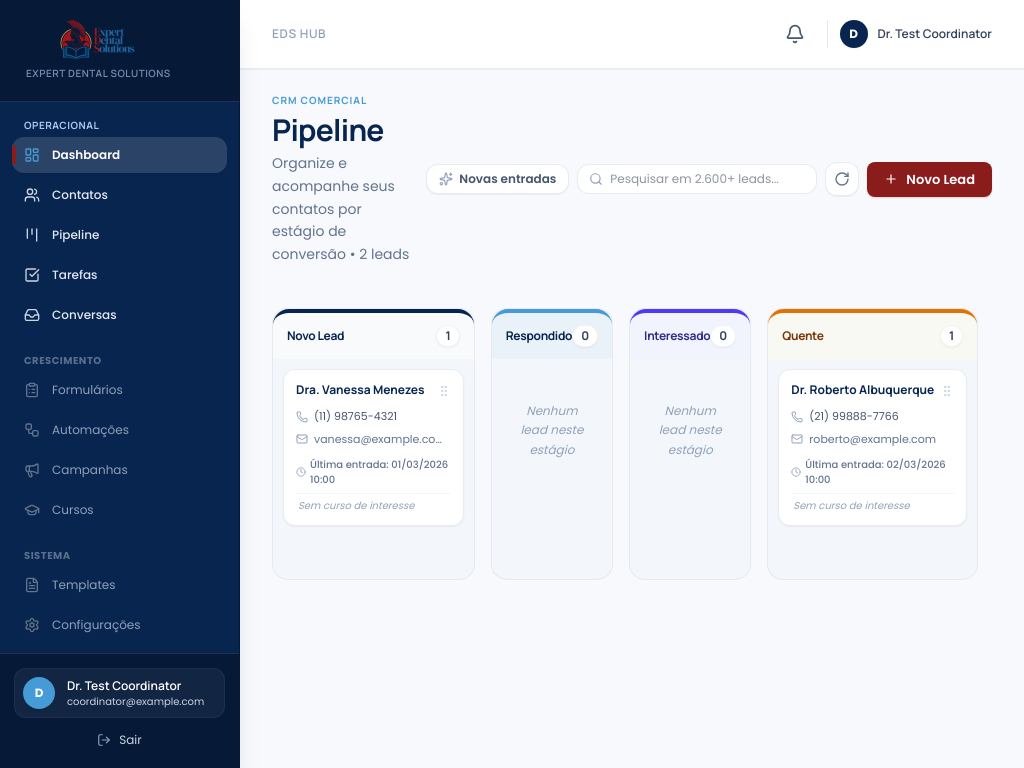
it: Mobile Kanban Pipeline & Standardized Contact Cards › Pipeline Mobile Kanban Format › opens complete LeadProfileDrawer without navigating away when a Pipeline card is clicked
Expected: the heading "Dra. Vanessa Menezes" is shown, [296,382,431,398]
Expected: the text "Dra. Vanessa Menezes" is shown, [296,381,425,398]
Click the text "Dra. Vanessa Menezes" at (373, 448), box [283,369,464,526]
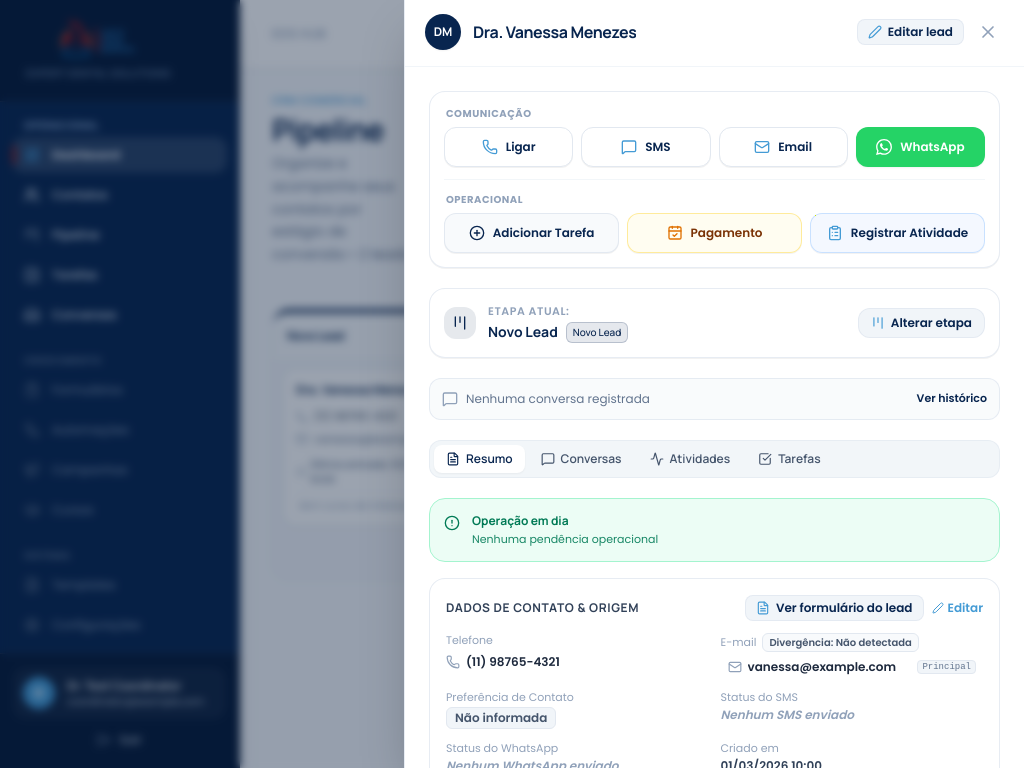
Expected: the dialog is shown
Expected: the text "Resumo" is shown, [466,450,513,466]
Expected: the text "Conversas" is shown, [561,450,622,466]
